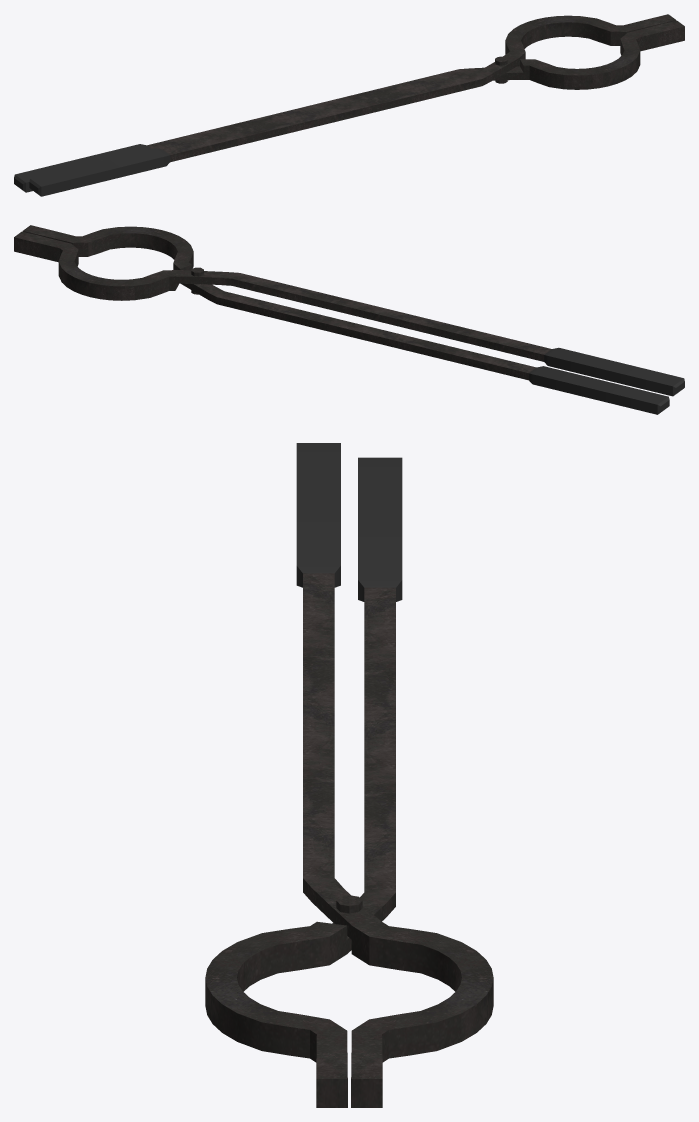
File: Tongs_BlacksmithCrucibleNoCrucible.glb
3 renders of one model, top to bottom at view 1: azimuth 30°, elevation 25°; view 2: azimuth 150°, elevation 25°; view 3: azimuth 270°, elevation 25°, orthographic. The views are drawn at different scales.
Parts seen in each view (by area): view 1: Tongs_BlackmithCrucibleNoCrucible; view 2: Tongs_BlackmithCrucibleNoCrucible; view 3: Tongs_BlackmithCrucibleNoCrucible.
Boxes of the visible parts, x1,y1,x2,y2 form: Tongs_BlackmithCrucibleNoCrucible: (14,14,684,196); Tongs_BlackmithCrucibleNoCrucible: (14,225,684,414); Tongs_BlackmithCrucibleNoCrucible: (205,443,493,1107).
Bounding box in the file's own units: 5.22 × 0.1669 × 1.
Materials: 1 (1 with a texture image).
